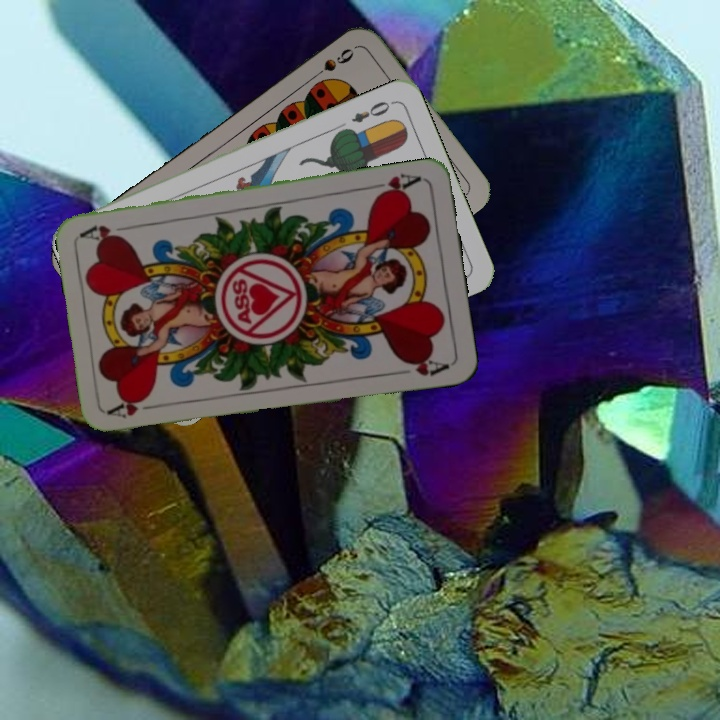EO: (347, 96, 397, 126)
HA: (366, 169, 424, 200), (105, 394, 164, 421)
S9: (306, 44, 357, 83)
